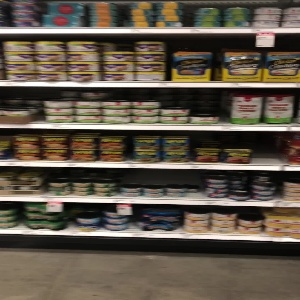void: (255, 132, 285, 164)
